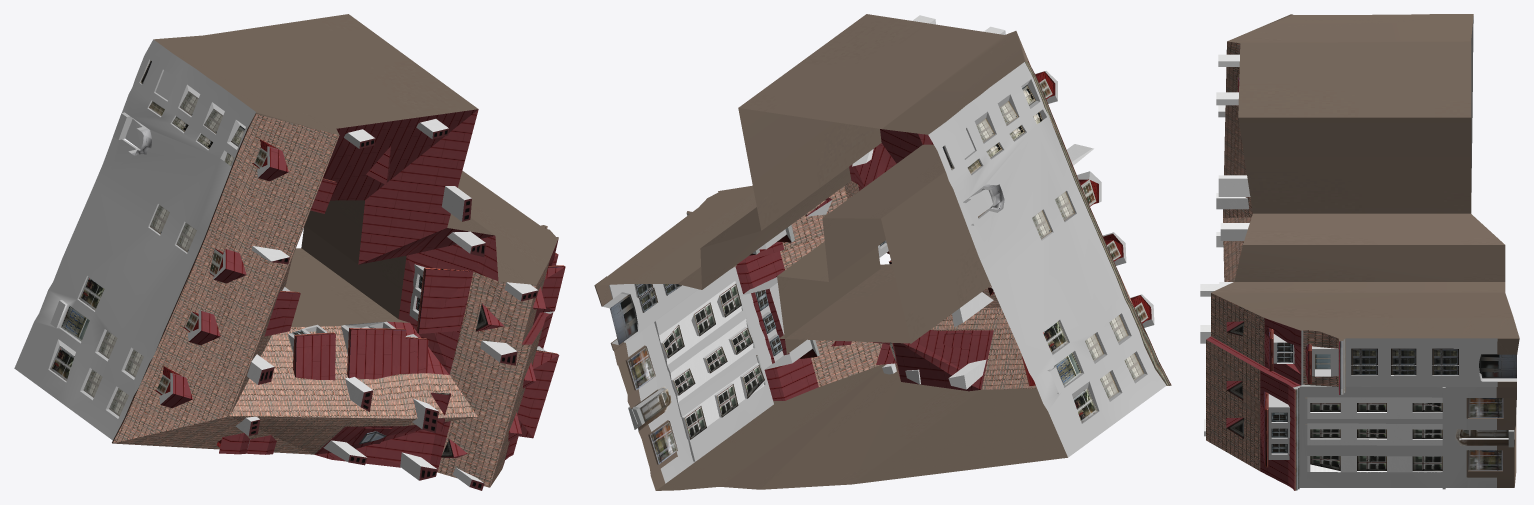
Rendered from Rataskaevu_6-origo.obj.
The picture shows the model from 3 angles, left to right: view 1: azimuth 30°, elevation 25°; view 2: azimuth 150°, elevation 25°; view 3: azimuth 270°, elevation 25°; orthographic projection. The views are drawn at different scales.
Parts seen in each view (by area): view 1: Rataskaevu_6; view 2: Rataskaevu_6; view 3: Rataskaevu_6.
Boxes of the visible parts, x1,y1,x2,y2 form: Rataskaevu_6: [14, 14, 565, 490]; Rataskaevu_6: [594, 14, 1171, 490]; Rataskaevu_6: [1200, 14, 1519, 490].
Size of the model in its own units: 34.62 by 29 by 23.1.
